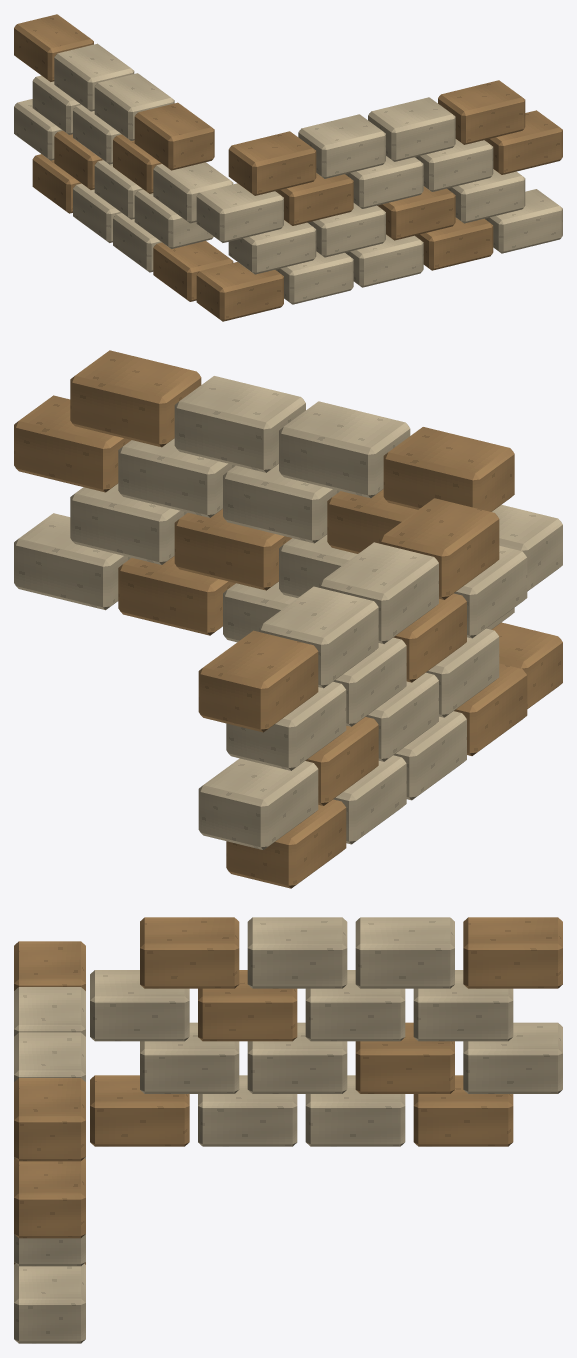
File: StoneWall_Corner.glb
The picture shows the model from 3 angles, top to bottom: view 1: azimuth 30°, elevation 25°; view 2: azimuth 150°, elevation 25°; view 3: azimuth 270°, elevation 25°; orthographic projection. The views are drawn at different scales.
Parts seen in each view (by area): view 1: CornerX_3_0, CornerY_3_0, CornerX_2_0, CornerX_0_0, CornerX_3_3, CornerX_3_1, CornerX_3_2, CornerX_1_0, CornerX_2_4, CornerX_0_4, CornerY_3_2, CornerY_3_1 (+22 smaller); view 2: CornerY_3_3, CornerX_3_0, CornerX_3_2, CornerX_3_1, CornerX_3_3, CornerY_1_3, CornerX_0_4, CornerX_2_4, CornerY_3_0, CornerY_3_2, CornerY_3_1, CornerX_1_3 (+20 smaller); view 3: CornerY_3_1, CornerY_3_3, CornerY_3_0, CornerY_3_2, CornerY_2_0, CornerY_0_0, CornerY_1_3, CornerX_3_3, CornerX_0_4, CornerX_2_4, CornerY_2_3, CornerY_2_2 (+11 smaller).
Part boxes in pixels (x1,y1,x2,y2): CornerX_3_0: (228, 131, 316, 195); CornerY_3_0: (134, 102, 214, 170); CornerX_2_0: (196, 183, 283, 242); CornerX_0_0: (196, 262, 283, 321); CornerX_3_3: (438, 80, 525, 144); CornerX_3_1: (298, 114, 385, 178); CornerX_3_2: (368, 97, 455, 161); CornerX_1_0: (228, 220, 316, 274); CornerX_2_4: (484, 110, 562, 174); CornerX_0_4: (485, 189, 562, 253); CornerY_3_2: (54, 43, 134, 111); CornerY_3_1: (94, 73, 174, 140); CornerY_3_3: (198, 630, 318, 732); CornerX_3_0: (383, 427, 514, 511); CornerX_3_2: (174, 376, 305, 472); CornerX_3_1: (279, 401, 410, 498); CornerX_3_3: (70, 350, 201, 447); CornerY_1_3: (198, 758, 318, 849); CornerX_0_4: (14, 513, 131, 610); CornerX_2_4: (14, 395, 131, 492); CornerY_3_0: (379, 498, 499, 599); CornerY_3_2: (259, 586, 378, 688); CornerY_3_1: (319, 542, 438, 643); CornerX_1_3: (70, 483, 187, 564); CornerY_3_1: (247, 917, 347, 988); CornerY_3_3: (463, 917, 562, 988); CornerY_3_0: (140, 917, 239, 988); CornerY_3_2: (355, 917, 454, 988); CornerY_2_0: (90, 970, 189, 1041); CornerY_0_0: (90, 1075, 189, 1146); CornerY_1_3: (463, 1022, 562, 1093); CornerX_3_3: (14, 1078, 85, 1161); CornerX_0_4: (14, 1263, 85, 1343); CornerX_2_4: (14, 1158, 85, 1238); CornerY_2_3: (413, 970, 513, 1041); CornerY_2_2: (305, 970, 405, 1041).
Bounding box in the file's own units: 3.89 × 1.62 × 3.97.
2 materials, 2 textured.
